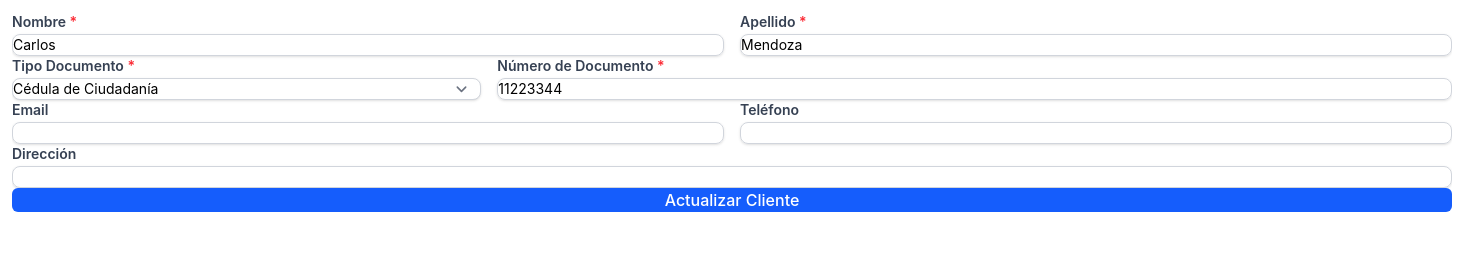
it: FormularioClienteV2 › muestra mensaje de error cuando actualizarCliente lanza una excepción
What coordinates should you click on to do the following:
click the button "Actualizar Cliente"
I would click on:
 (732, 200)
Its box is top-left (12, 188), bottom-right (1452, 212).
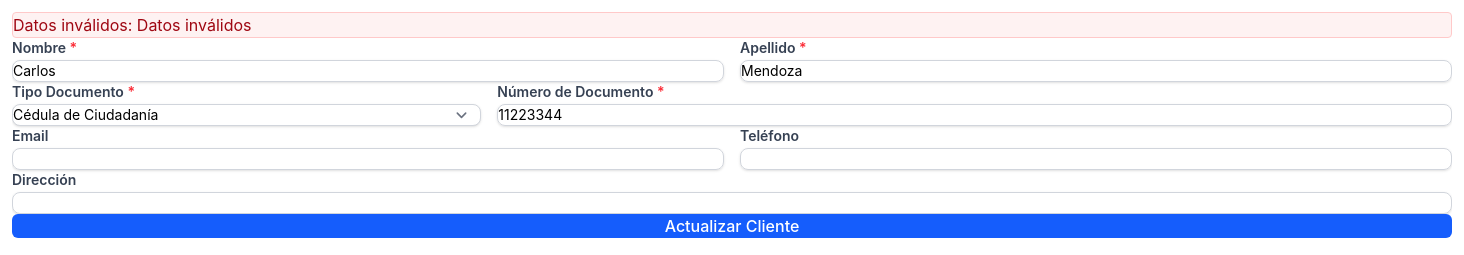
Check: the text "Datos inválidos: Datos inválidos" is shown, box top-left (13, 15), bottom-right (252, 35)
